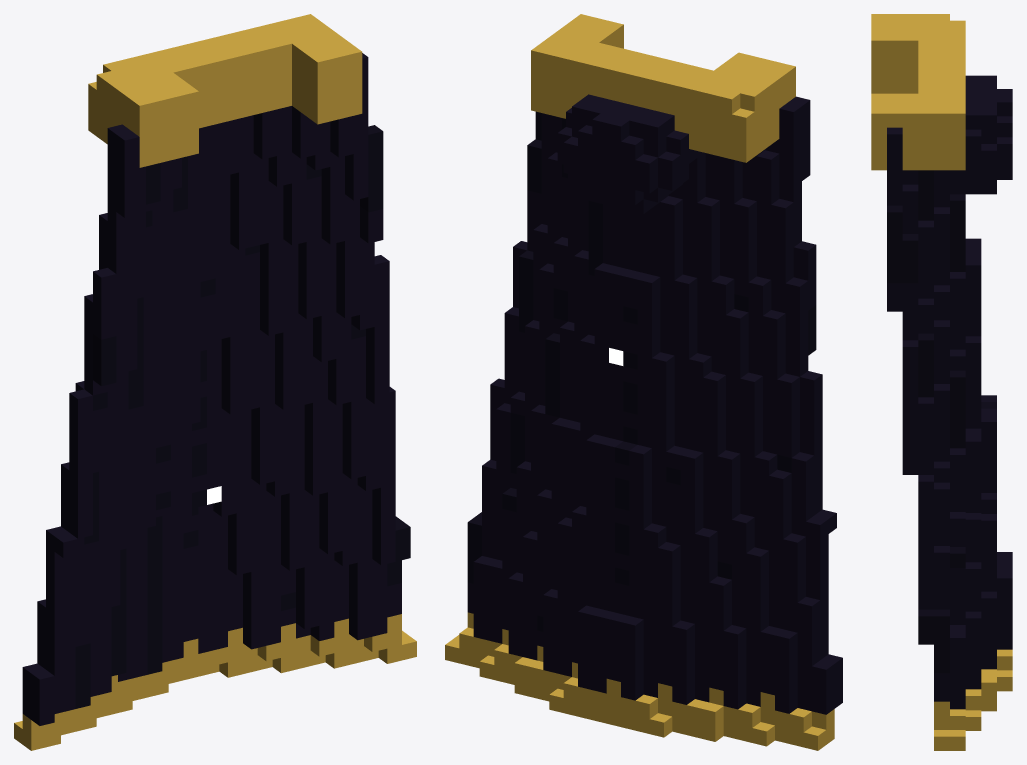
The model's file is mystic_legendary_cloak_lod1.glb.
3 renders of one model, left to right at view 1: azimuth 30°, elevation 25°; view 2: azimuth 150°, elevation 25°; view 3: azimuth 270°, elevation 25°, orthographic. The views are drawn at different scales.
Parts seen in each view (by area): view 1: mystic_legendary_cloak_lod1; view 2: mystic_legendary_cloak_lod1; view 3: mystic_legendary_cloak_lod1.
Part boxes in pixels (x1,y1,x2,y2): mystic_legendary_cloak_lod1: (14,14,416,750); mystic_legendary_cloak_lod1: (445,14,842,750); mystic_legendary_cloak_lod1: (871,14,1012,750).
Size of the model in its own units: 0.624 by 1.01 by 0.216.
